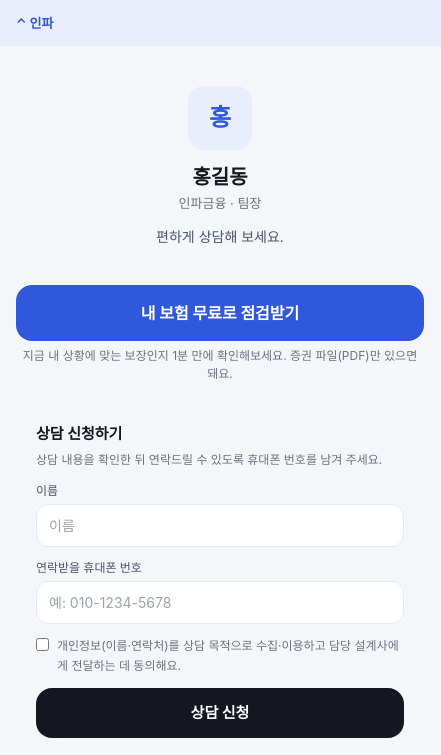
introduction card consultation request › submits a valid mobile phone and confirms the next contact action
Expected: the field labelled "연락받을 휴대폰 번호" is shown, left=36, top=580, right=404, bottom=624
In the field with placeholder "이름": (220, 525) left=36, top=504, right=404, bottom=546, type "김상담"
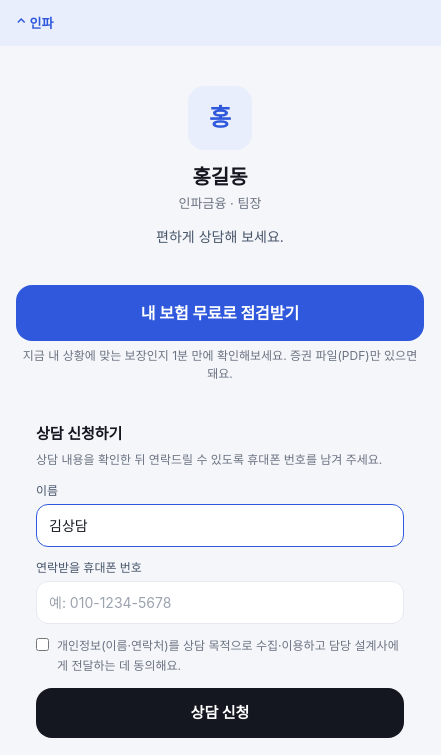
In the field labelled "연락받을 휴대폰 번호": (220, 602) left=36, top=580, right=404, bottom=624, type "010-1234-5678"
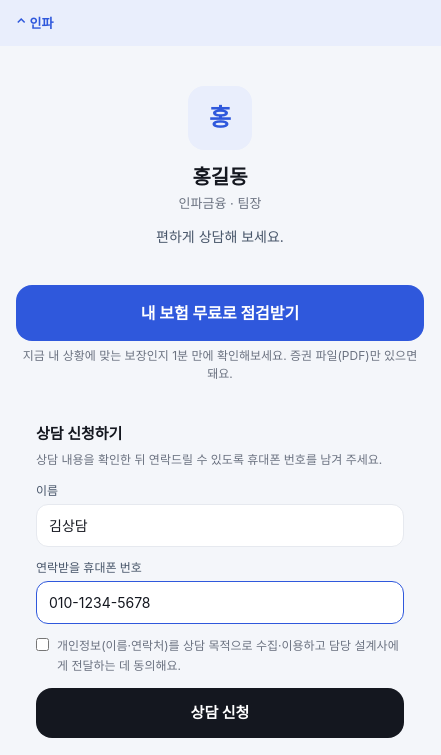
Click the checkbox: (42, 644) left=36, top=638, right=49, bottom=650
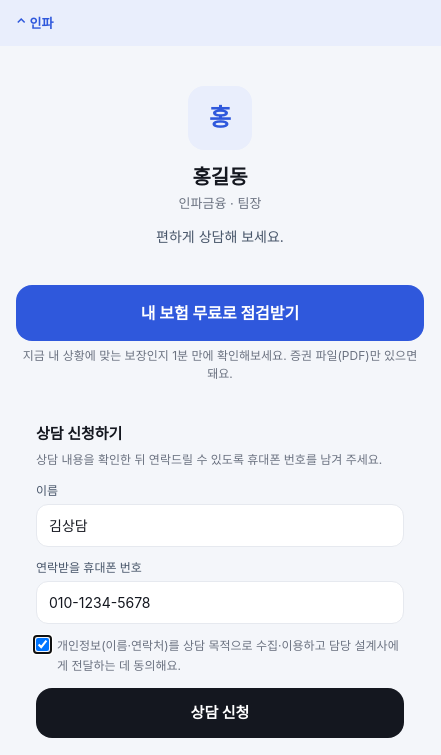
Click the button "상담 신청": (220, 713) left=36, top=688, right=404, bottom=738
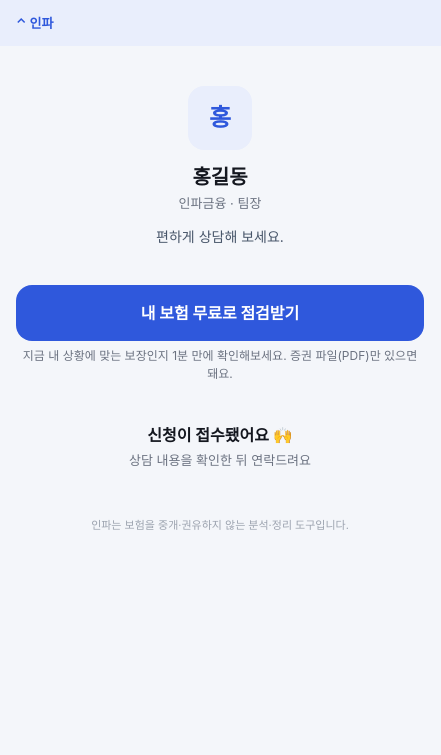
Now the text "상담 내용을 확인한 뒤 연락드려요" is shown, box left=129, top=452, right=311, bottom=468
